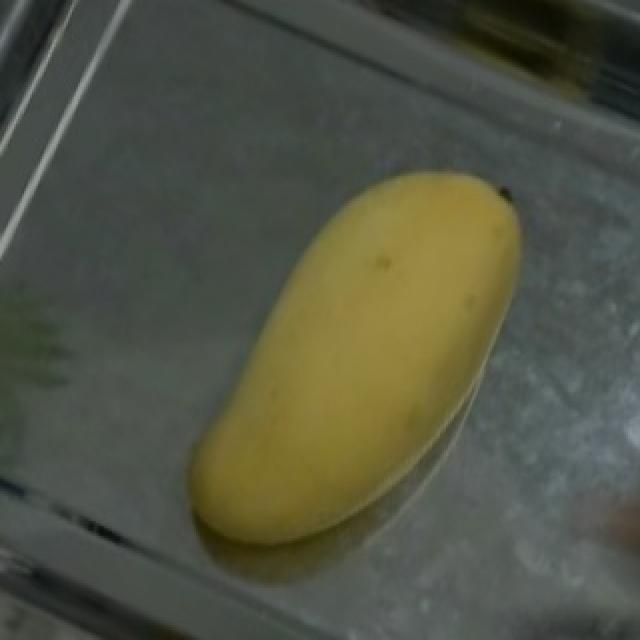fruit: (186, 106, 590, 514)
